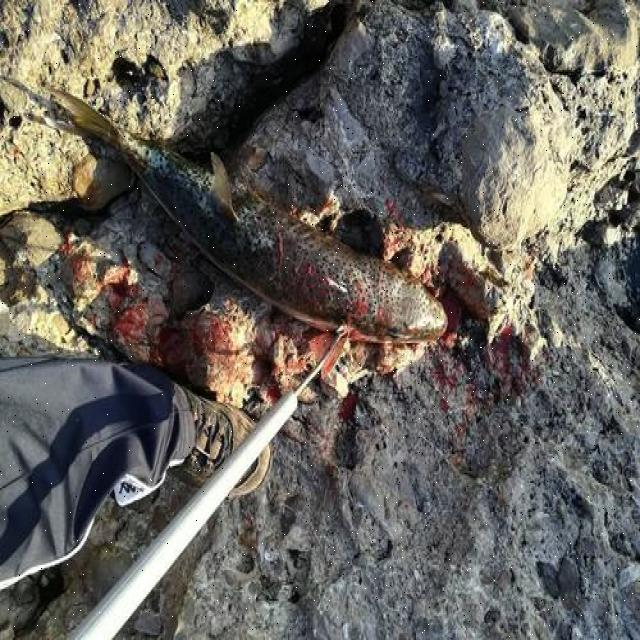Balik: (48, 89, 446, 343)
